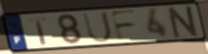4: (145, 7, 170, 41)
8: (57, 13, 83, 45)
F: (108, 9, 138, 43)
N: (167, 4, 202, 40)
T: (27, 16, 49, 46)
U: (81, 10, 114, 44)
